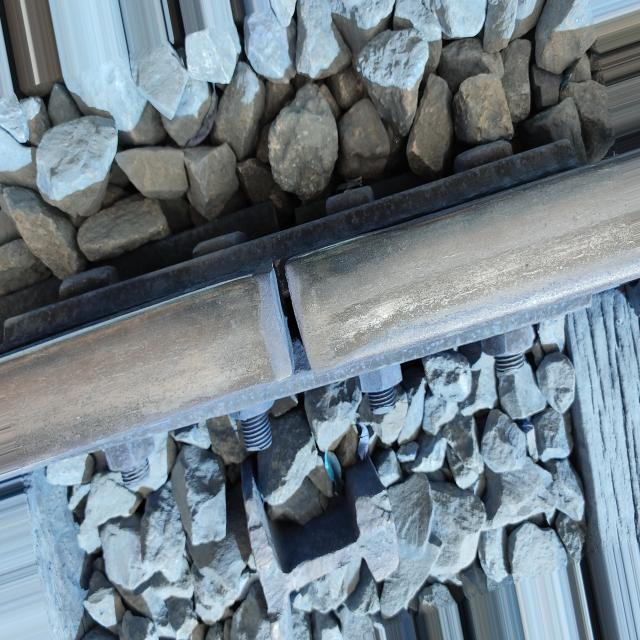crack: (238, 246, 322, 406)
